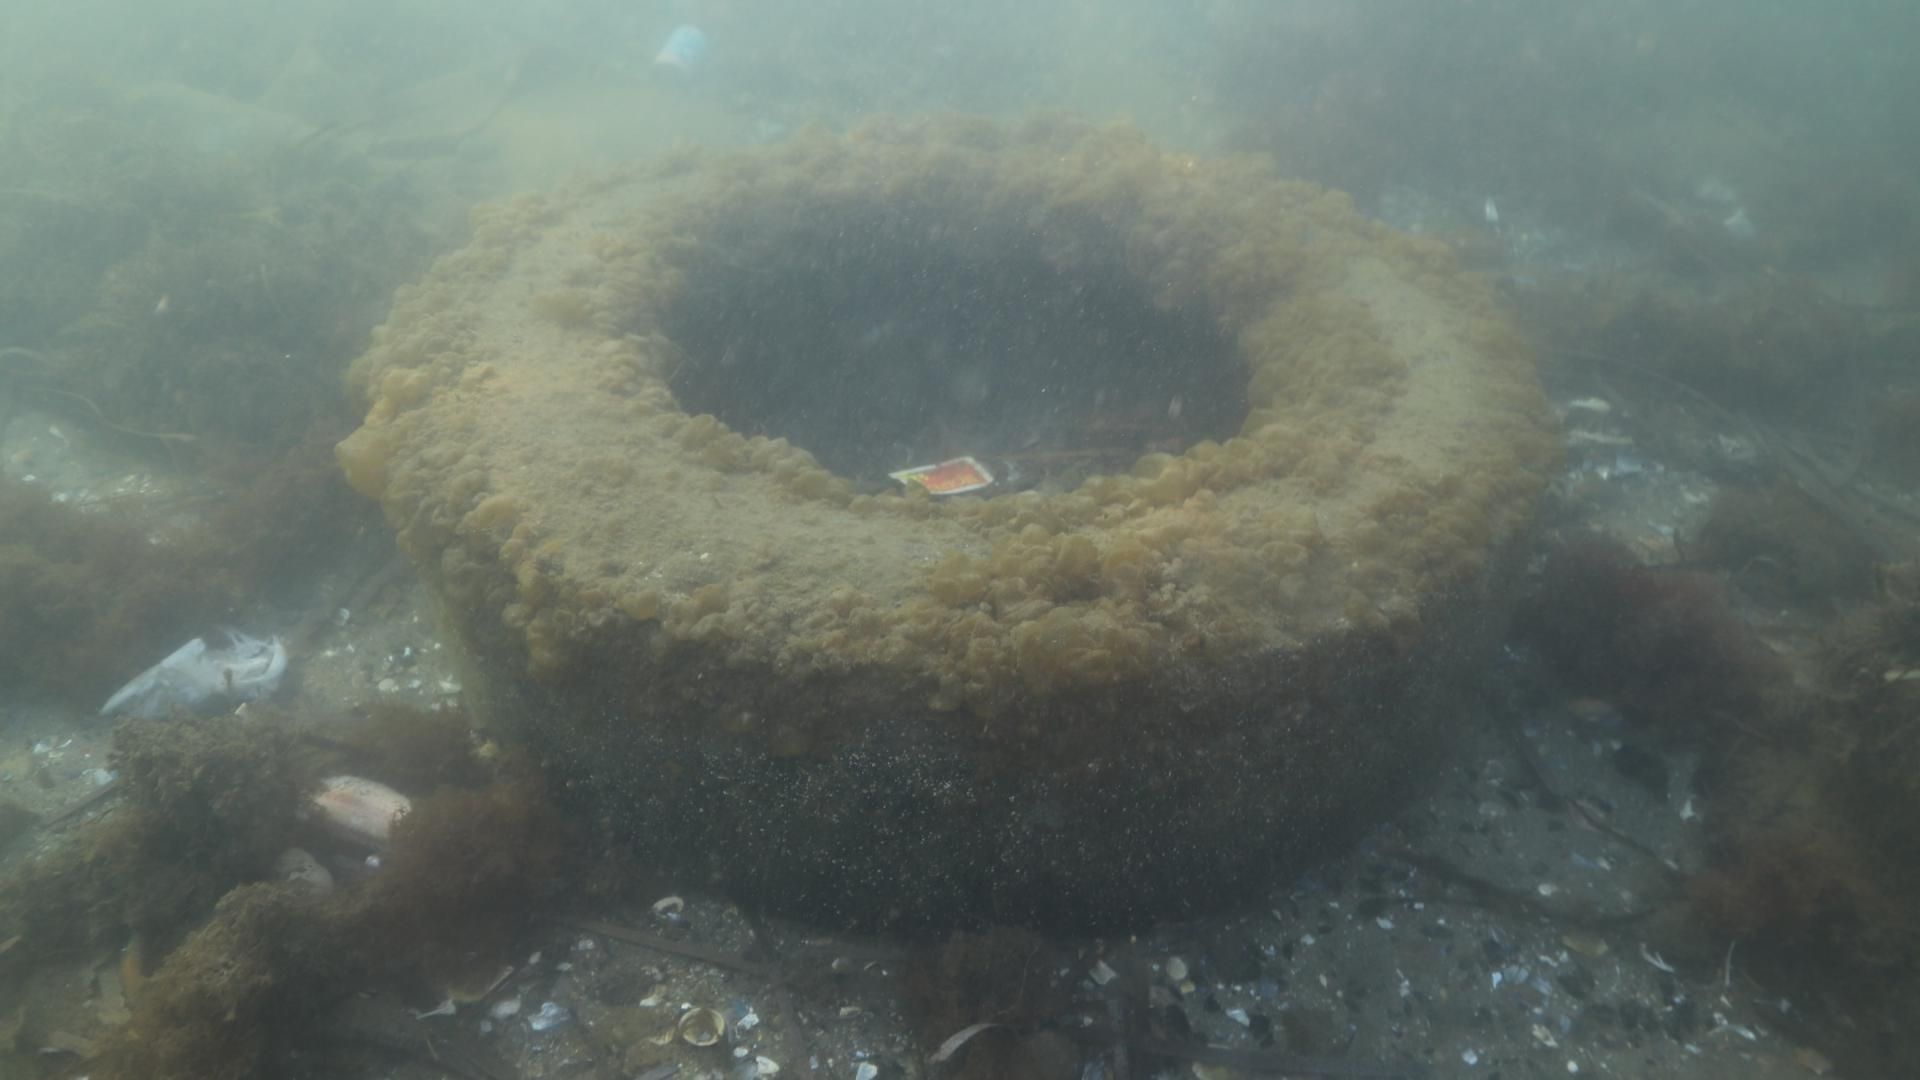tire: (390, 115, 1549, 920)
